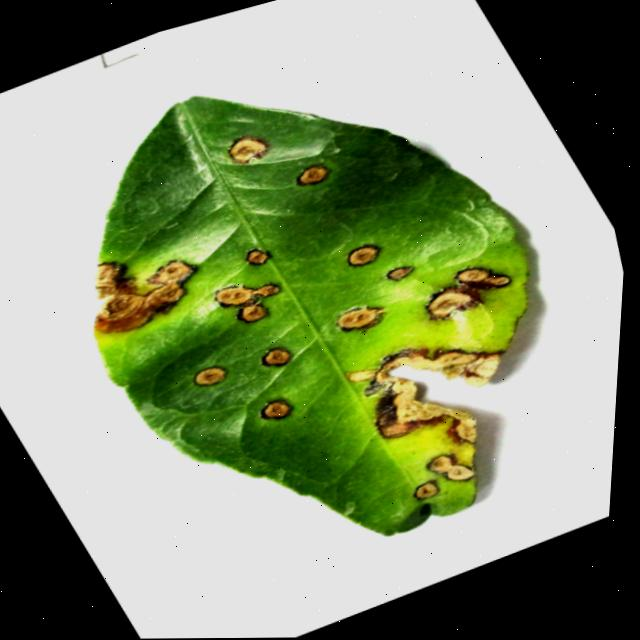antracnose: (94, 95, 527, 534), (375, 369, 476, 441), (95, 259, 194, 331), (383, 348, 499, 385), (215, 282, 279, 320), (427, 283, 481, 317), (456, 267, 511, 288), (427, 454, 473, 479), (229, 136, 266, 161), (337, 306, 381, 327), (297, 163, 330, 183), (347, 244, 379, 264), (194, 365, 226, 384), (261, 398, 292, 417), (262, 346, 292, 364), (238, 303, 267, 321), (415, 480, 439, 498), (246, 247, 270, 263), (386, 265, 413, 279)
